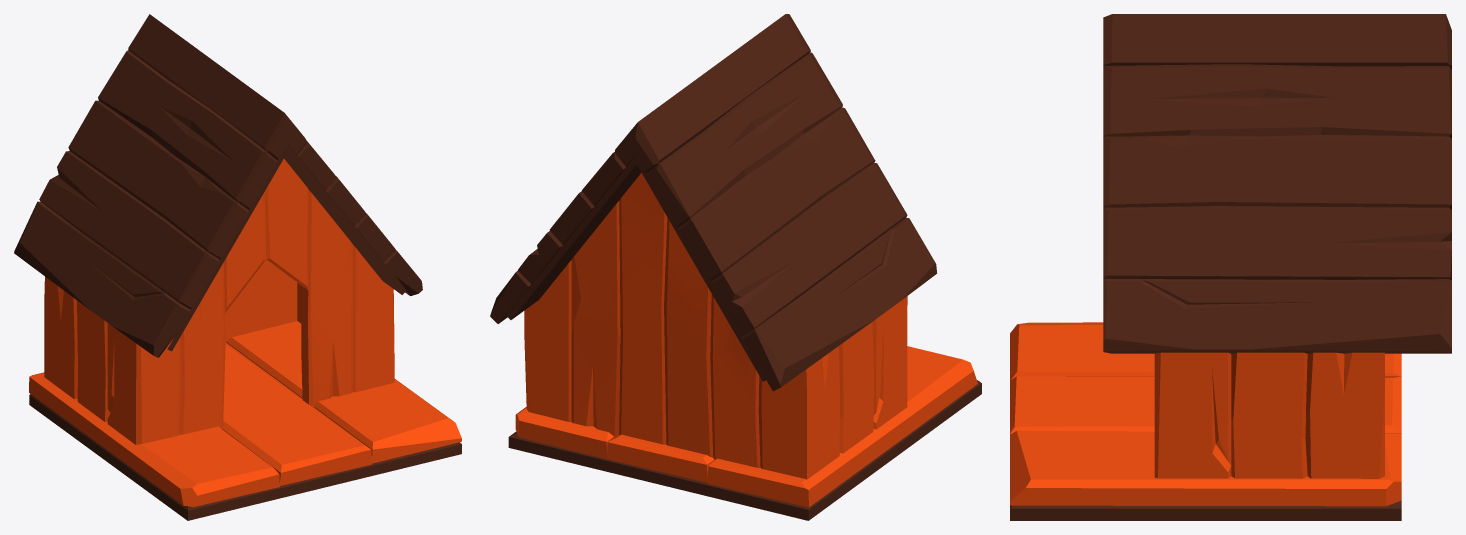
File: Dog_House_4.fbx
3 views of the same model, side by side, from view 1: azimuth 30°, elevation 25°; view 2: azimuth 150°, elevation 25°; view 3: azimuth 270°, elevation 25° (orthographic). The views are drawn at different scales.
Visible parts, largest first — view 1: Dog_House_4; view 2: Dog_House_4; view 3: Dog_House_4.
Part boxes in pixels (x1,y1,x2,y2): Dog_House_4: (14, 14, 461, 520); Dog_House_4: (490, 14, 981, 520); Dog_House_4: (1010, 14, 1451, 520).
Size of the model in its own units: 34.55 by 41.04 by 38.65.
